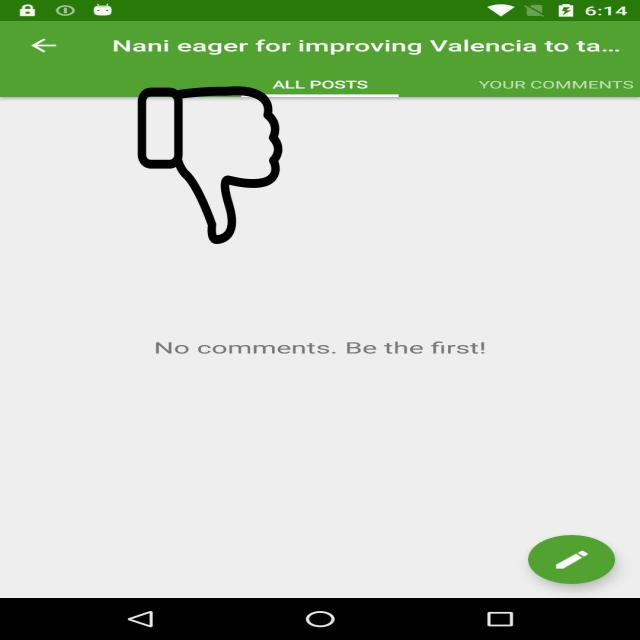obstruction: (136, 86, 284, 244)
